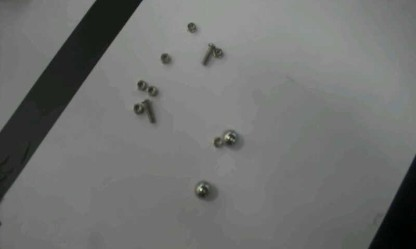ironball: (193, 180, 210, 198), (222, 129, 237, 145)
